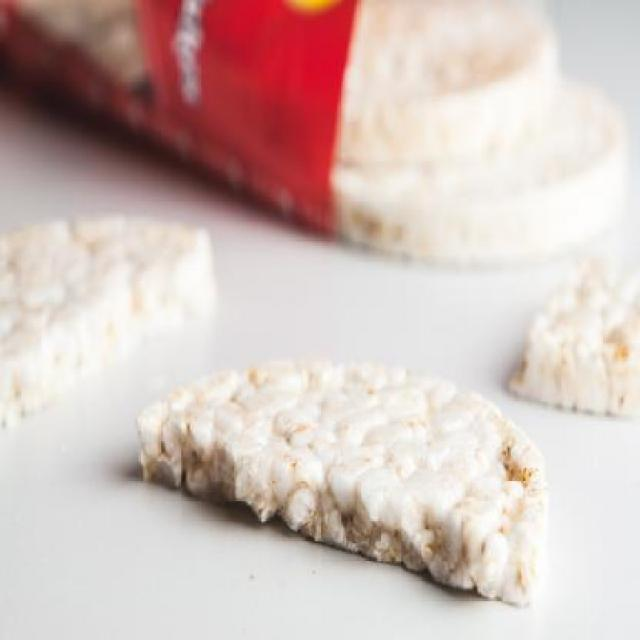Gallette di riso packaged: (141, 356, 559, 614)
